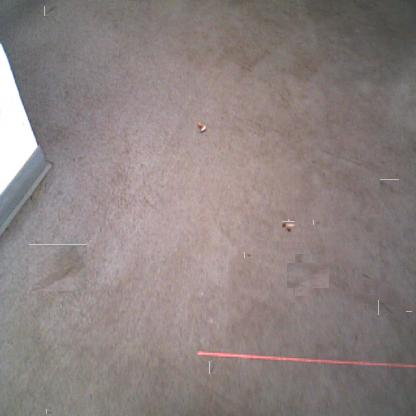dirty: (283, 219, 294, 230), (197, 120, 207, 132)
mark: (32, 241, 85, 294), (291, 258, 325, 292), (379, 179, 399, 196), (379, 299, 395, 316), (45, 6, 56, 17), (209, 360, 216, 375), (361, 271, 371, 281), (406, 311, 412, 326), (352, 331, 358, 345), (336, 324, 342, 336), (245, 252, 253, 259), (314, 219, 322, 226), (47, 408, 54, 415)
